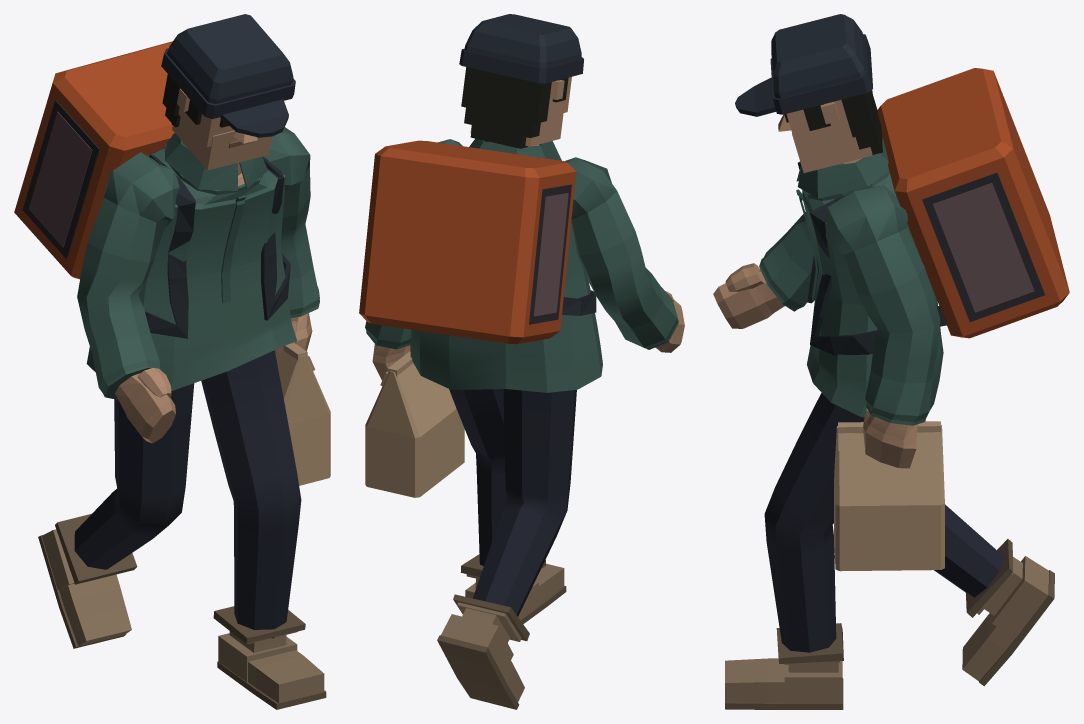
The model's file is delivery-courier-327e30__walk1.glb.
The picture shows the model from 3 angles, left to right: view 1: azimuth 30°, elevation 25°; view 2: azimuth 150°, elevation 25°; view 3: azimuth 270°, elevation 25°; orthographic projection. The views are drawn at different scales.
Parts seen in each view (by area): view 1: delivery-courier-327e30__walk1; view 2: delivery-courier-327e30__walk1; view 3: delivery-courier-327e30__walk1.
Part boxes in pixels (left/top/right/bottom): delivery-courier-327e30__walk1: left=14, top=14, right=330, bottom=709; delivery-courier-327e30__walk1: left=359, top=14, right=684, bottom=709; delivery-courier-327e30__walk1: left=713, top=14, right=1069, bottom=709.
Size of the model in its own units: 0.7569 by 1.75 by 0.8466.
